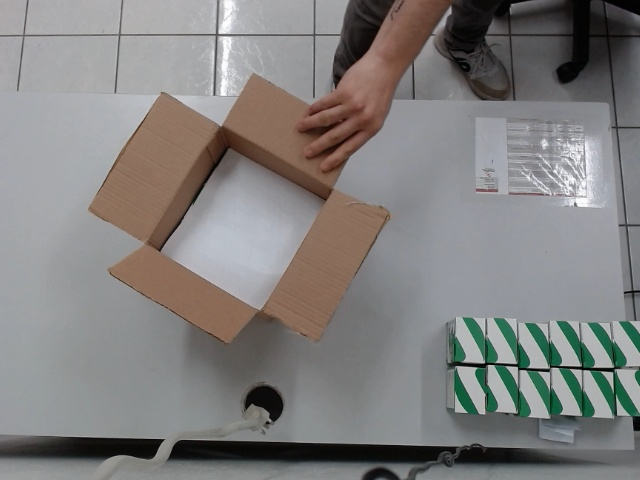caixa_principal: (87, 67, 392, 344)
